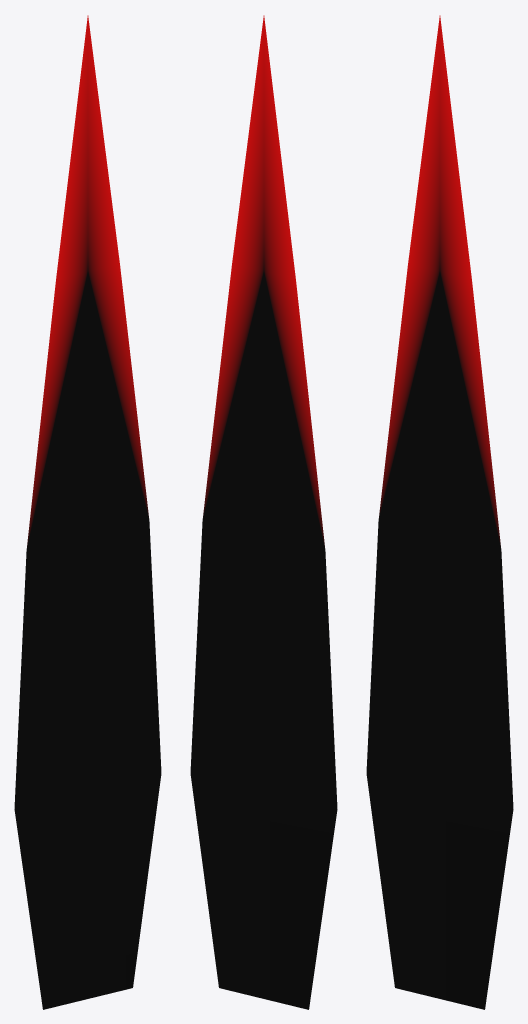
The model's file is Grass_1.fbx.
3 renders of one model, left to right at view 1: azimuth 30°, elevation 25°; view 2: azimuth 150°, elevation 25°; view 3: azimuth 330°, elevation 25°, orthographic.
Parts seen in each view (by area): view 1: GrassPlane_1.001; view 2: GrassPlane_1.001; view 3: GrassPlane_1.001.
Boxes of the visible parts, <box> form: GrassPlane_1.001: <box>14,15,161,1009</box>; GrassPlane_1.001: <box>190,15,337,1009</box>; GrassPlane_1.001: <box>366,15,513,1009</box>.
Size of the model in its own units: 15.44 by 98.83 by 4.37e-06.
